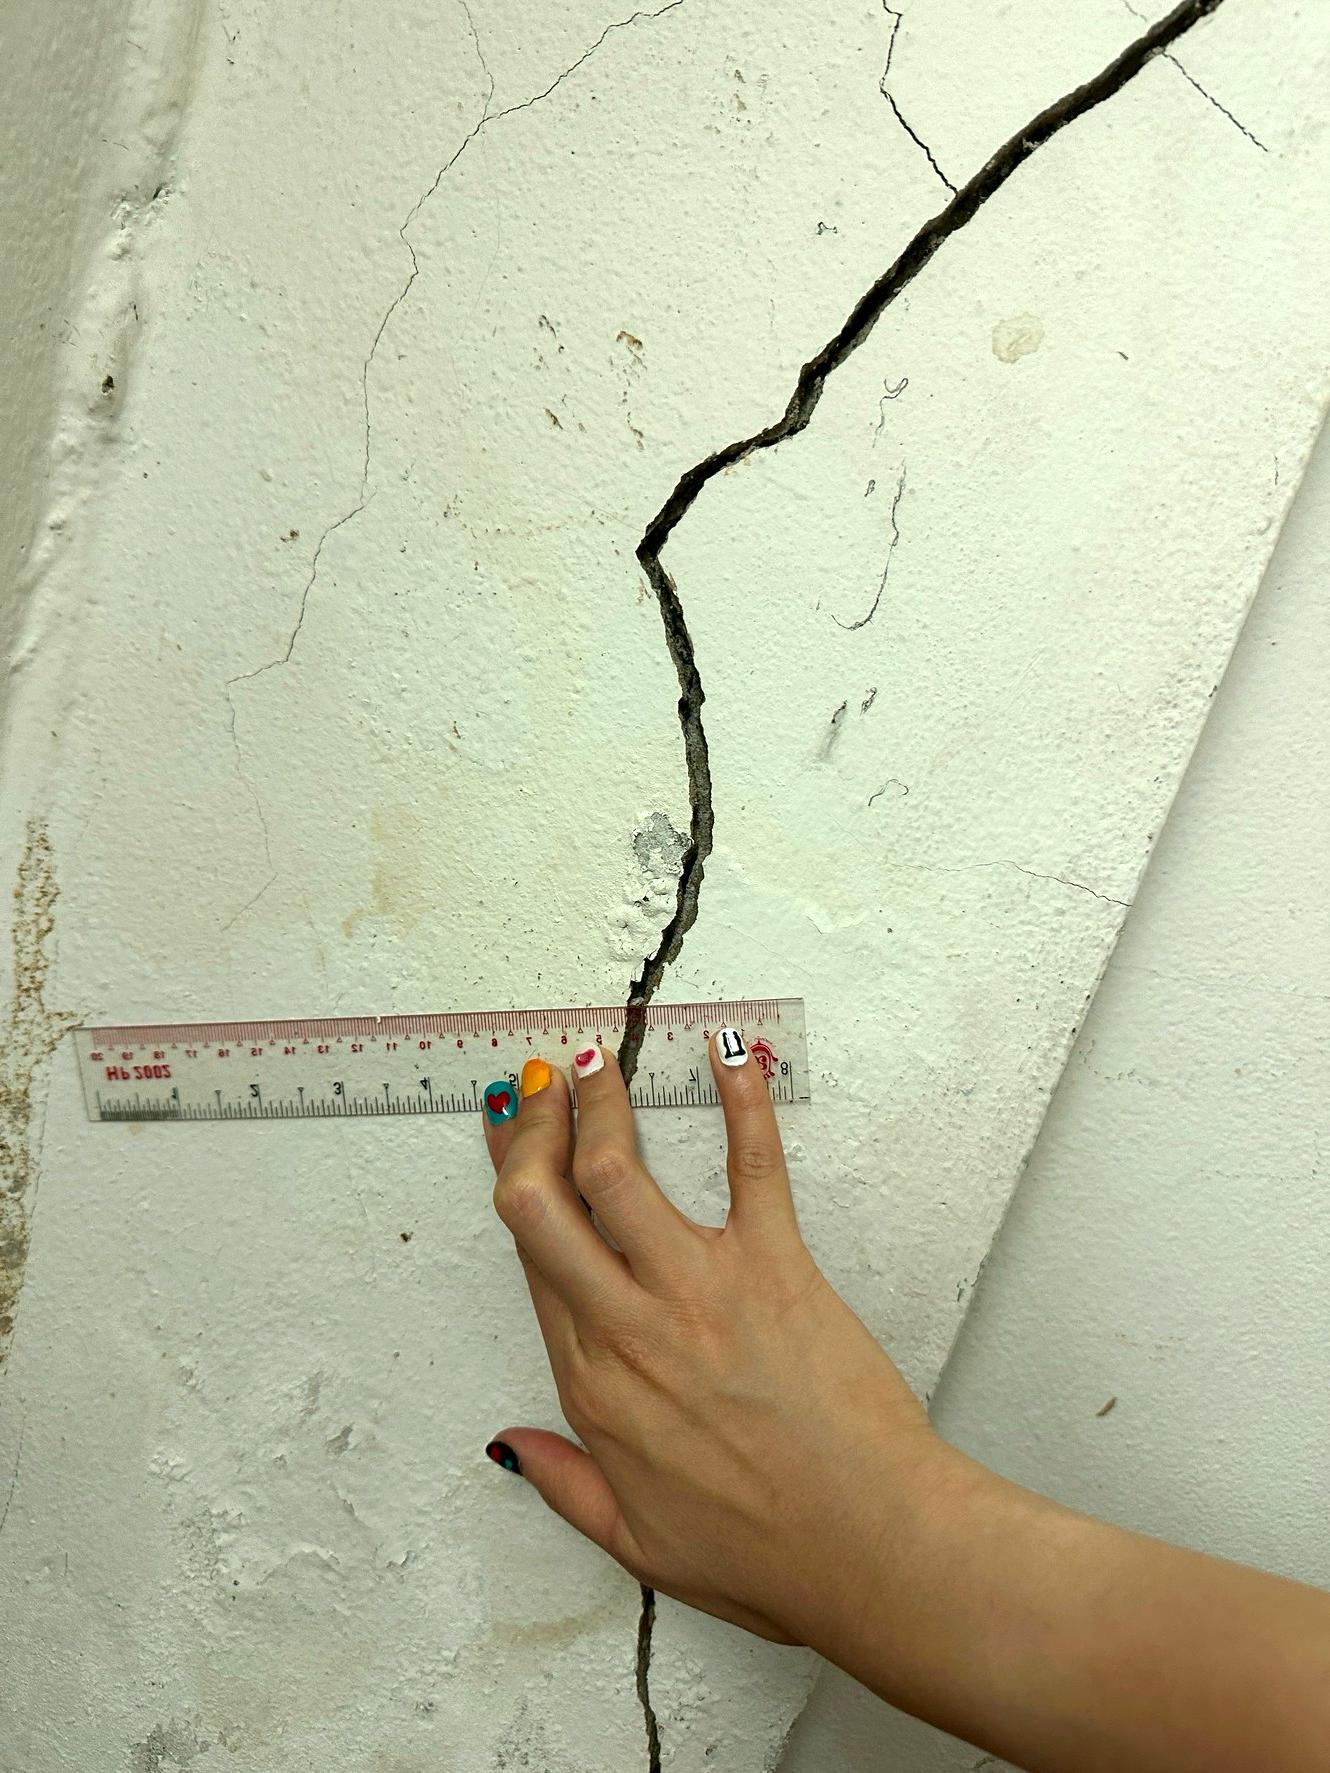High: (504, 6, 1276, 1000)
